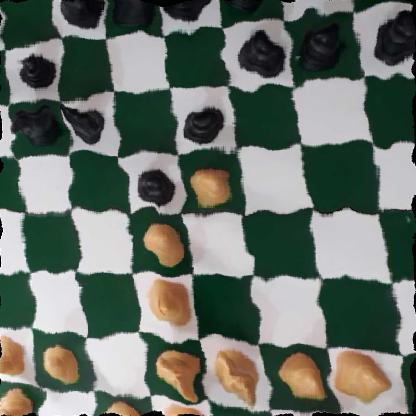black-bishop: (57, 0, 103, 33), (216, 0, 275, 13)
black-king: (160, 0, 215, 32)
black-knight: (57, 91, 106, 142), (5, 105, 60, 149)
black-pawn: (292, 19, 350, 75), (366, 12, 416, 67), (237, 29, 287, 82), (178, 93, 226, 147), (15, 44, 58, 94), (130, 164, 175, 211)
black-queen: (104, 0, 157, 35)
white-bishop: (142, 273, 195, 328), (100, 394, 150, 416)
white-knight: (208, 346, 259, 405), (155, 345, 203, 397)
white-pawn: (332, 347, 392, 404), (275, 354, 331, 405), (138, 215, 187, 264), (186, 163, 238, 206), (41, 340, 84, 386), (0, 335, 31, 379), (411, 355, 416, 411)
white-queen: (159, 394, 212, 416)
white-rook: (0, 387, 40, 416)
